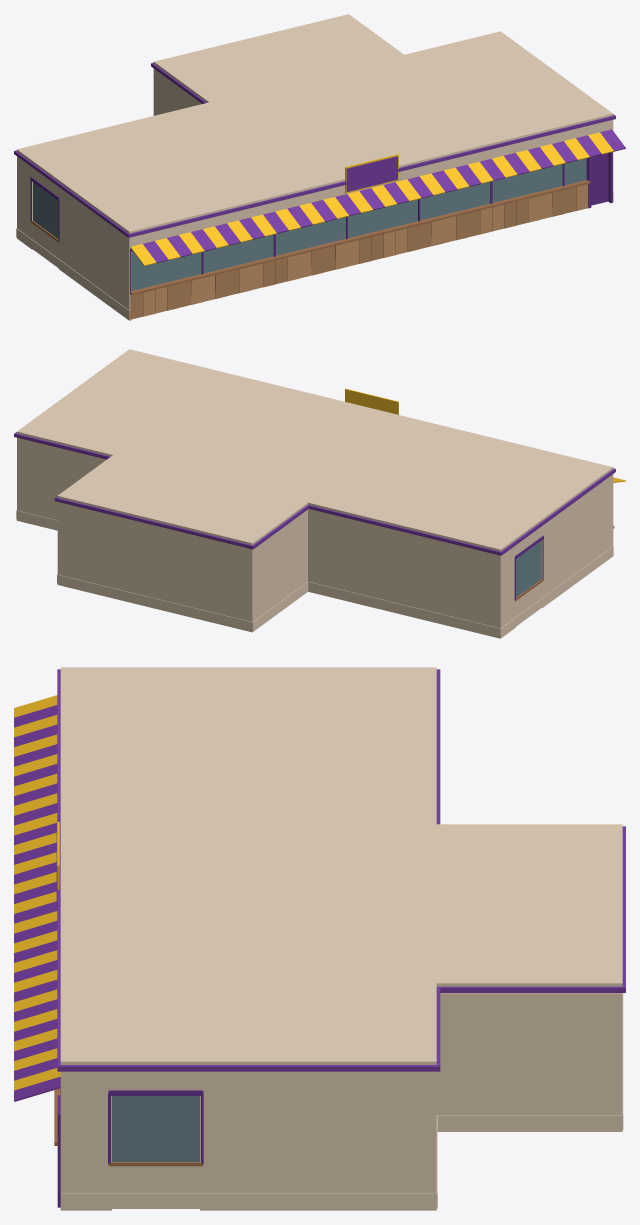
Rendered from dondurmaci-kizlar.glb.
3 views of the same model, one above another, from view 1: azimuth 30°, elevation 25°; view 2: azimuth 150°, elevation 25°; view 3: azimuth 270°, elevation 25° (orthographic). The views are drawn at different scales.
Visible parts, largest first — view 1: e9d6bd, 6e8a93, 7a3fa8, ffc928, c99a6b, b98a5f, a87650, 6b3596; view 2: e9d6bd, 7a3fa8, 6e8a93, ffc928; view 3: e9d6bd, 7a3fa8, ffc928, 6e8a93, 6b3596.
Boxes of the visible parts, <box> form: e9d6bd: <box>16,14,613,320</box>; 6e8a93: <box>33,158,586,290</box>; 7a3fa8: <box>14,62,625,262</box>; ffc928: <box>130,132,613,266</box>; c99a6b: <box>129,184,588,319</box>; b98a5f: <box>130,187,576,319</box>; a87650: <box>31,180,590,295</box>; 6b3596: <box>30,152,612,292</box>; e9d6bd: <box>16,349,613,638</box>; 7a3fa8: <box>14,432,615,555</box>; 6e8a93: <box>516,541,541,597</box>; ffc928: <box>345,388,625,482</box>; e9d6bd: <box>60,667,623,1210</box>; 7a3fa8: <box>14,669,625,1101</box>; ffc928: <box>14,695,60,1090</box>; 6e8a93: <box>112,1096,199,1161</box>; 6b3596: <box>57,1088,203,1207</box>.
Bounding box in the file's own units: 20.25 × 4.03 × 13.18.
